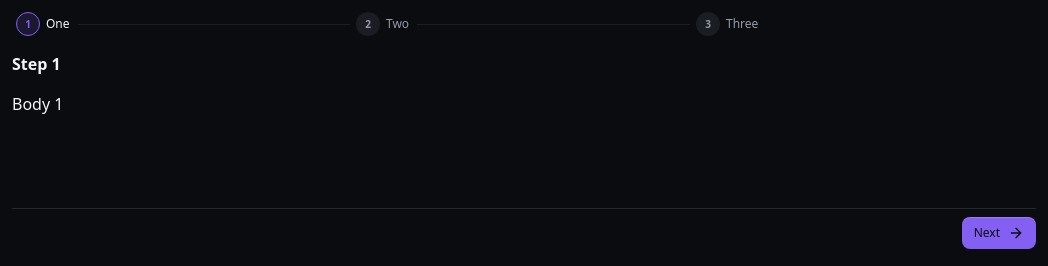
it: Wizard — navigation › shows Finish label on the last step + calls onFinish
Later steps or results of the test are not shown.
Click the button "Next" at (999, 233), box x1=962 y1=217 x2=1036 y2=249
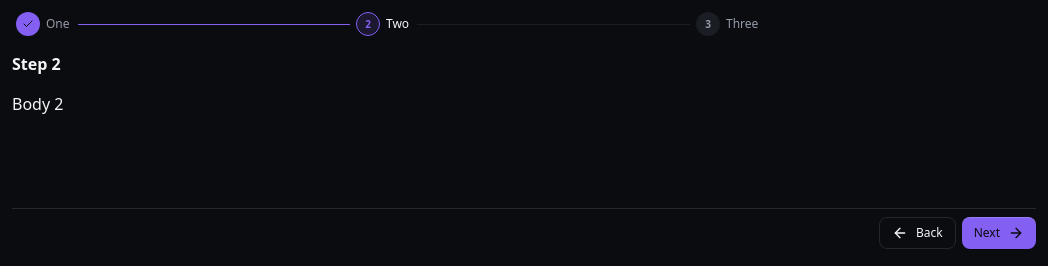
Result: the text "Body 2" is shown at x1=12 y1=93 x2=63 y2=115
Click the button "Next" at (999, 233), box x1=962 y1=217 x2=1036 y2=249
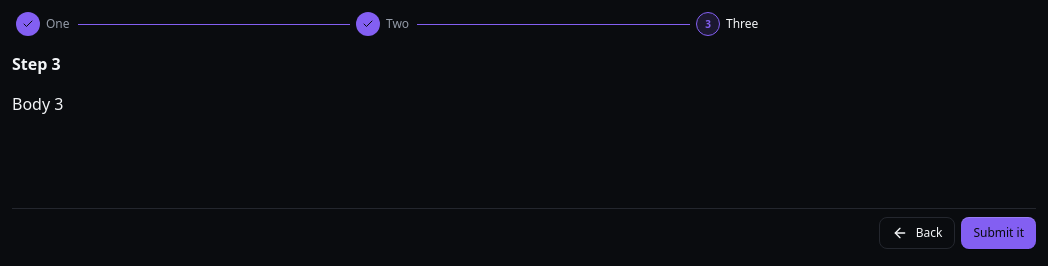
Result: the text "Body 3" is shown at x1=12 y1=93 x2=63 y2=115
